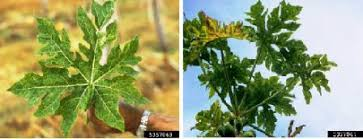Diseased_Leaves: (189, 18, 251, 45), (290, 123, 302, 138)
